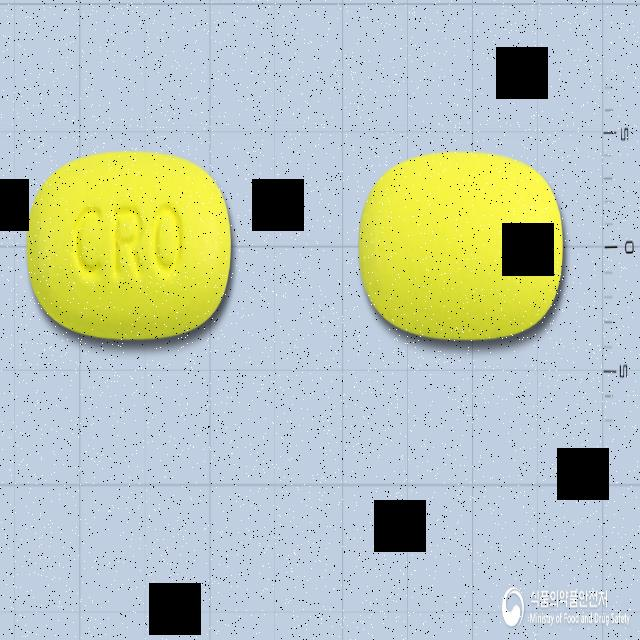Clarosin: (27, 148, 234, 343)
